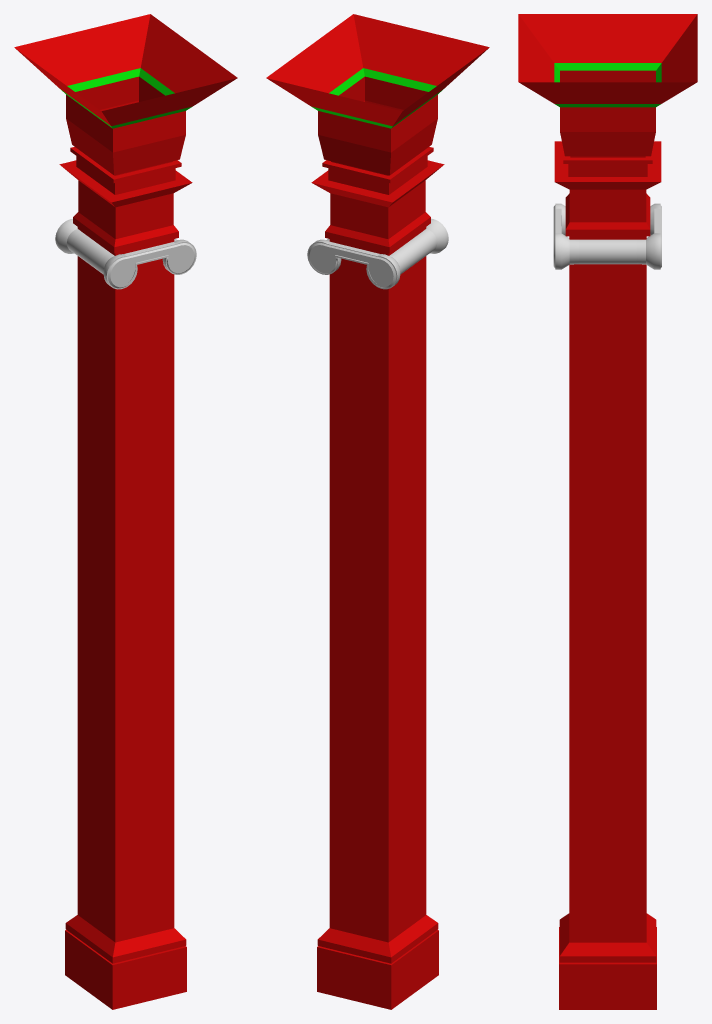
The model's file is PillarForWalls.fbx.
The picture shows the model from 3 angles, left to right: view 1: azimuth 30°, elevation 25°; view 2: azimuth 150°, elevation 25°; view 3: azimuth 270°, elevation 25°; orthographic projection. The views are drawn at different scales.
Parts seen in each view (by area): view 1: pCube31, polySurface14, polySurface20; view 2: pCube31, polySurface20, polySurface14; view 3: pCube31, polySurface20, polySurface14.
Part boxes in pixels (<box>): pCube31: <box>14,14,237,1009</box>; polySurface14: <box>83,238,196,289</box>; polySurface20: <box>55,219,94,262</box>; pCube31: <box>266,14,489,1009</box>; polySurface20: <box>307,238,416,289</box>; polySurface14: <box>406,218,448,263</box>; pCube31: <box>518,14,697,1009</box>; polySurface20: <box>604,203,661,269</box>; polySurface14: <box>553,203,611,269</box>.
Size of the model in its own units: 14.52 by 93.62 by 16.12.
